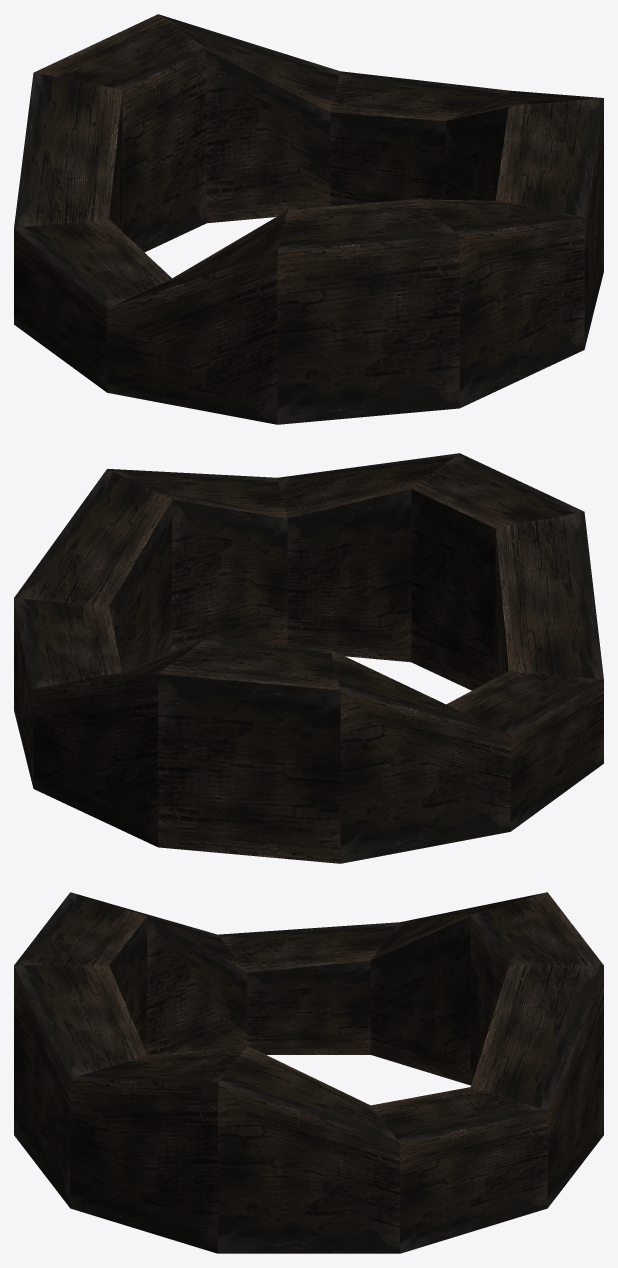
File: africawellburn.gltf
3 views of the same model, one above another, from view 1: azimuth 30°, elevation 25°; view 2: azimuth 150°, elevation 25°; view 3: azimuth 270°, elevation 25° (orthographic). The views are drawn at different scales.
Parts seen in each view (by area): view 1: africawellburn_atomic0; view 2: africawellburn_atomic0; view 3: africawellburn_atomic0.
Boxes of the visible parts, x1,y1,x2,y2 form: africawellburn_atomic0: (14,14,603,424); africawellburn_atomic0: (14,453,603,863); africawellburn_atomic0: (14,892,603,1253).
Size of the model in its own units: 13.07 by 4.36 by 13.74.
1 material, 1 textured.
